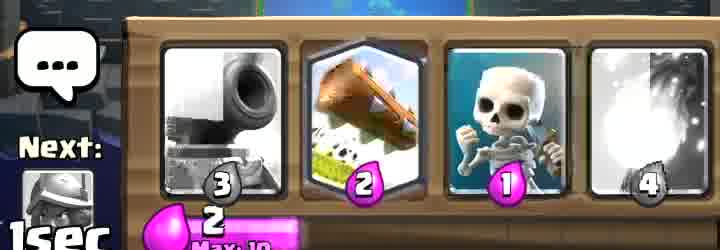log: (309, 44, 423, 195)
